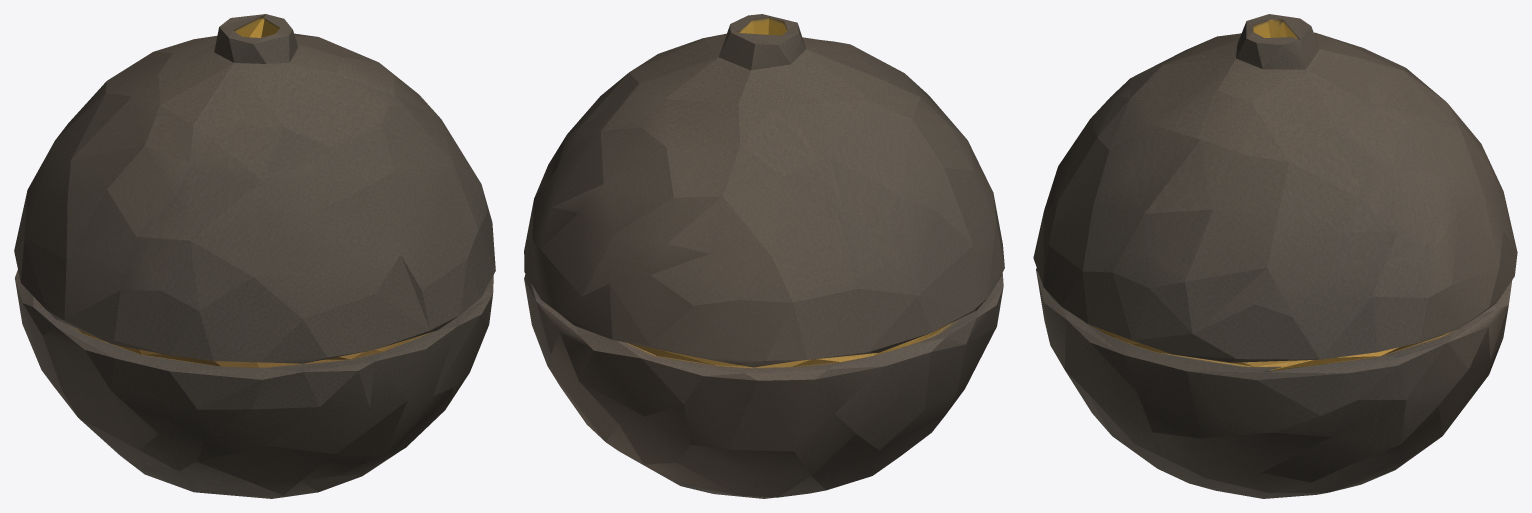
File: projectile-ironshot.glb
3 renders of one model, left to right at view 1: azimuth 30°, elevation 25°; view 2: azimuth 150°, elevation 25°; view 3: azimuth 270°, elevation 25°, orthographic.
Size of the model in its own units: 1.88 by 1.9 by 1.89.
1 material, 1 textured.
